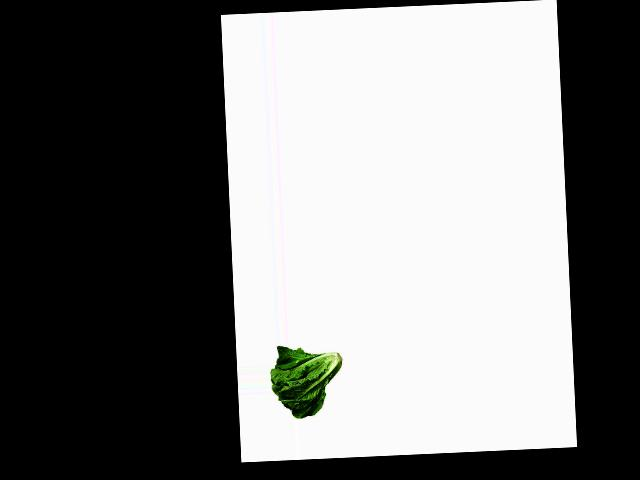lettuce: (268, 344, 348, 421)
